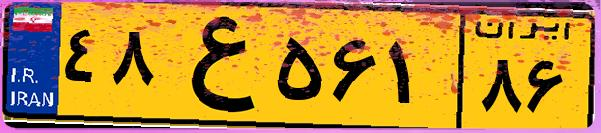1: (385, 28, 445, 110)
4: (57, 26, 110, 100)
5: (270, 28, 330, 110)
6: (330, 28, 385, 110), (525, 38, 570, 115)
8: (475, 38, 525, 113), (110, 28, 158, 98)
ع: (158, 12, 270, 120)
